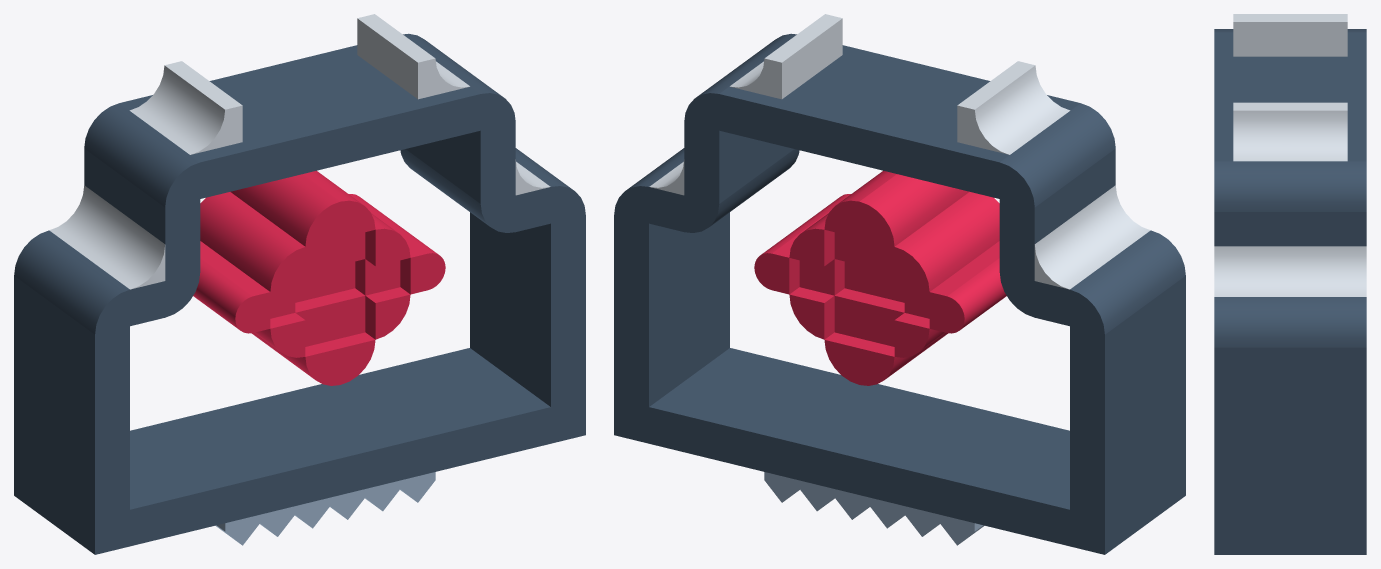
The model's file is devilFaceTOP.glb.
3 renders of one model, left to right at view 1: azimuth 30°, elevation 25°; view 2: azimuth 150°, elevation 25°; view 3: azimuth 270°, elevation 25°, orthographic. The views are drawn at different scales.
Visible parts, largest first — view 1: generated(Clone); view 2: generated(Clone); view 3: generated(Clone).
Part boxes in pixels (<box>): generated(Clone): <box>14,14,585,554</box>; generated(Clone): <box>614,14,1185,554</box>; generated(Clone): <box>1214,14,1366,554</box>.
Bounding box in the file's own units: 14 × 12 × 4.
